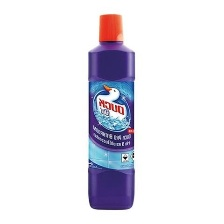cleaning_solution: (84, 6, 140, 212)
